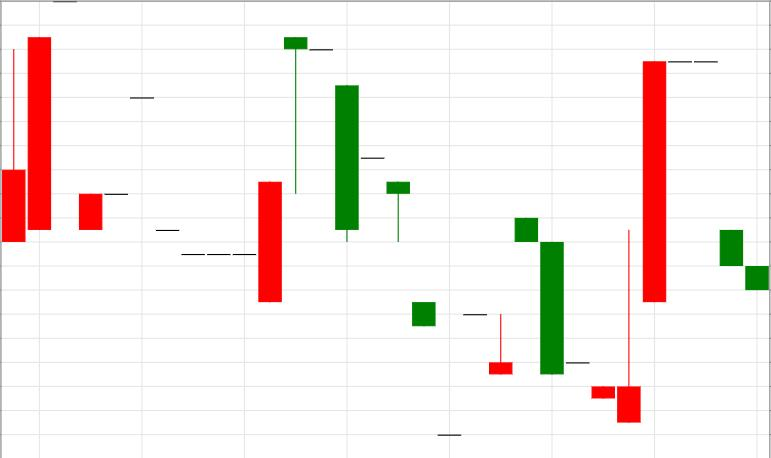inverse_hammer_rise: (335, 86, 640, 436)
